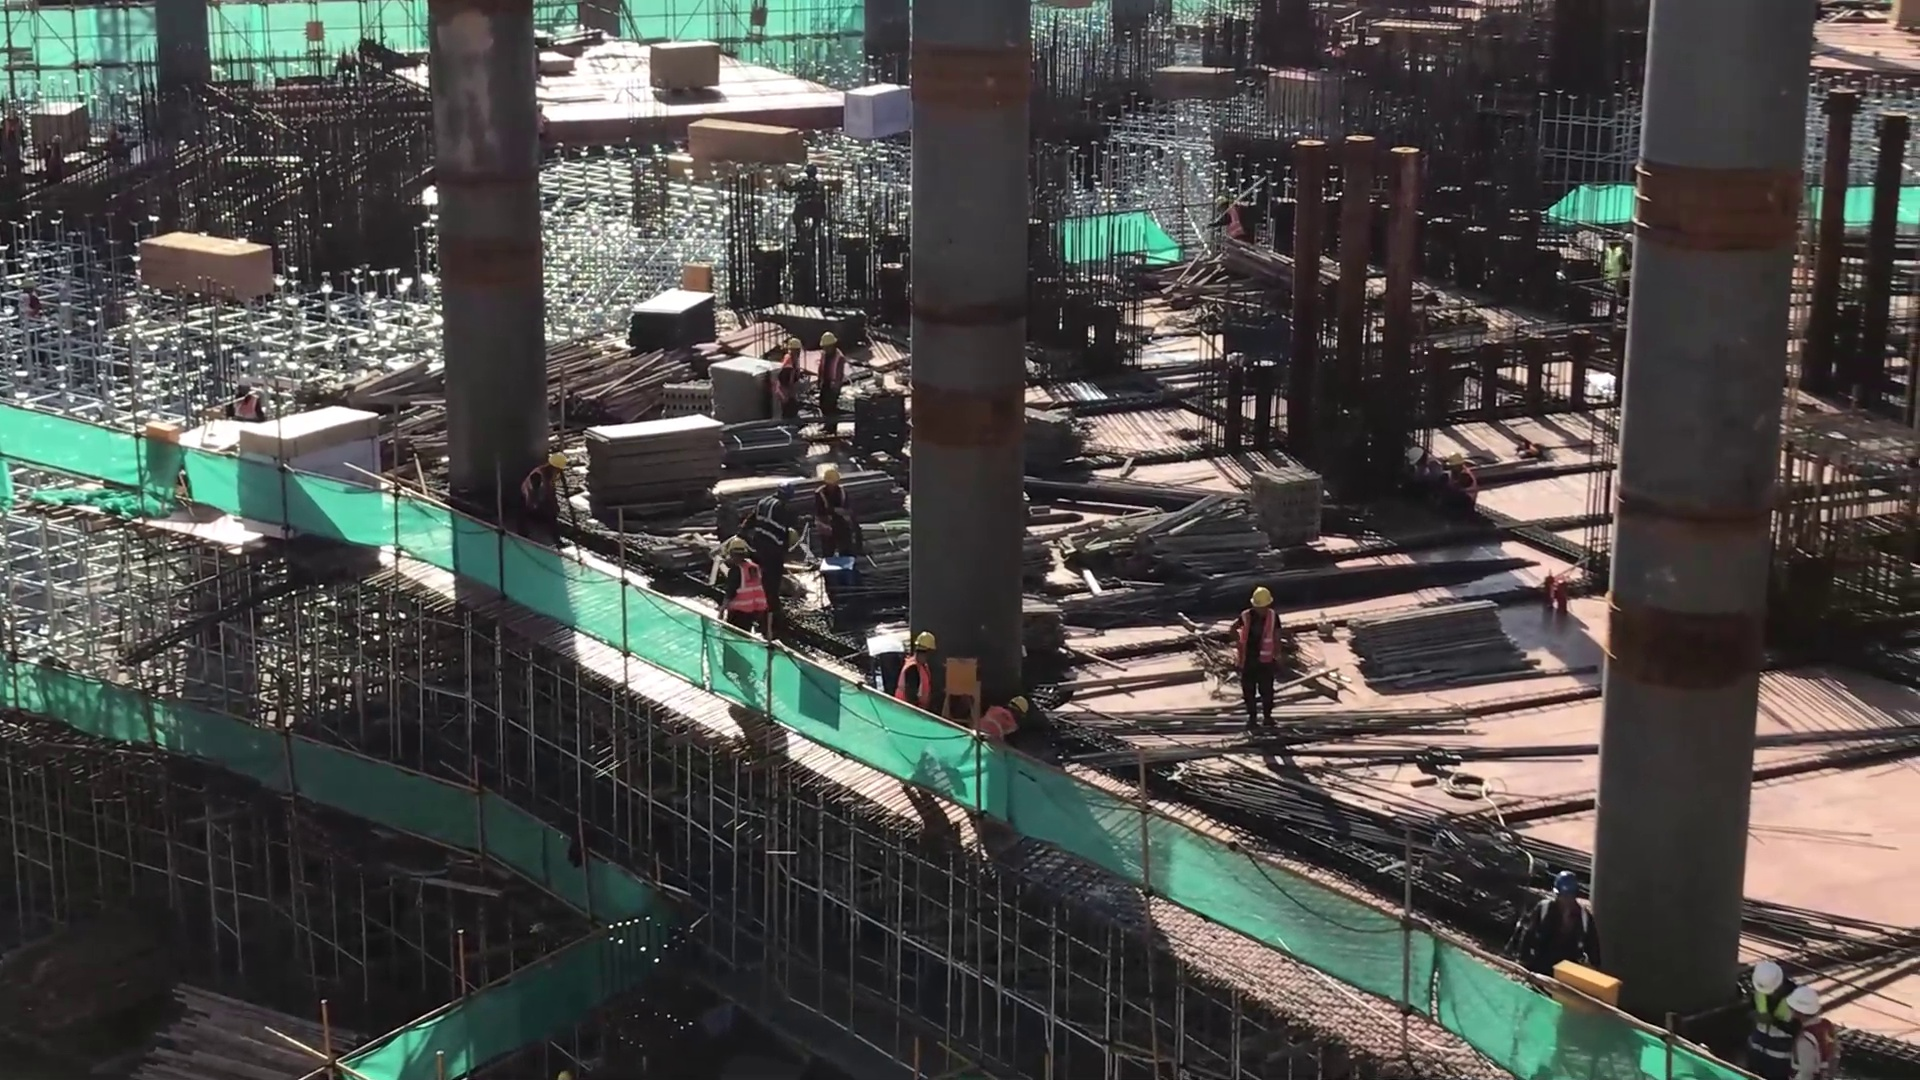helmet: (1541, 863, 1604, 915), (1746, 959, 1783, 1005), (1785, 977, 1821, 1025), (1241, 581, 1280, 609), (719, 535, 747, 568), (822, 467, 849, 497), (778, 334, 806, 356), (912, 629, 935, 655), (1399, 445, 1425, 467), (814, 332, 838, 356), (778, 482, 800, 505), (548, 450, 566, 471), (236, 373, 257, 389), (1014, 690, 1028, 712), (1447, 453, 1467, 470), (1214, 192, 1226, 205)
person: (1517, 868, 1603, 972), (1225, 587, 1284, 736), (1740, 956, 1793, 1074), (711, 538, 771, 635), (1785, 982, 1844, 1080), (804, 465, 853, 559), (886, 625, 939, 710), (519, 448, 568, 531), (746, 481, 801, 550), (975, 687, 1032, 750), (815, 330, 849, 435), (774, 336, 808, 424), (1393, 442, 1439, 500), (1445, 452, 1483, 509), (1210, 194, 1242, 242)
rebar: (1133, 730, 1437, 882)
vest: (1522, 901, 1585, 954), (1751, 1014, 1789, 1069), (1233, 614, 1272, 664), (773, 359, 809, 409), (891, 656, 929, 703), (725, 569, 761, 614), (751, 496, 790, 537), (1798, 1030, 1835, 1068), (522, 468, 556, 507), (981, 711, 1017, 747), (1605, 245, 1627, 292), (819, 362, 843, 403), (229, 394, 257, 424), (1451, 470, 1477, 498), (1222, 209, 1241, 238)
wood: (1336, 581, 1547, 697), (545, 346, 663, 421), (374, 379, 449, 469)
